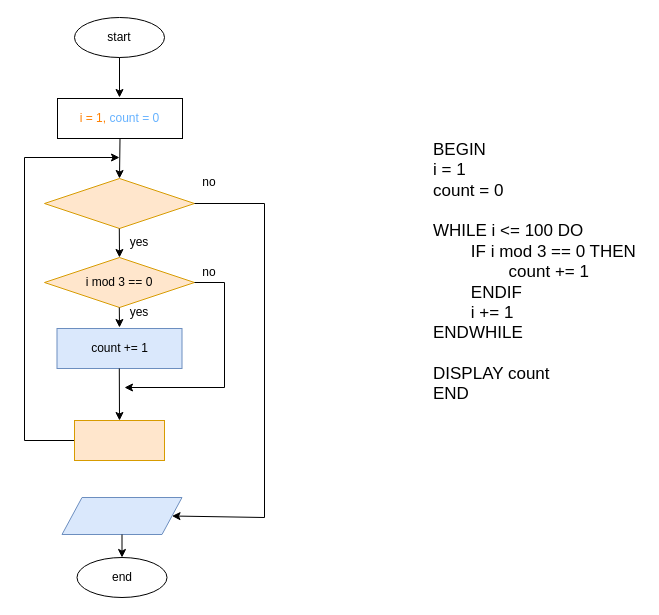
The diagram is 659 pixels wide and 615 high, and some of its shapes have lost their labels. The centre of each missing label's shape, as x and y in pixels:
display count: (x=121, y=515)
i += 1: (x=119, y=440)
i <= 100: (x=119, y=203)
